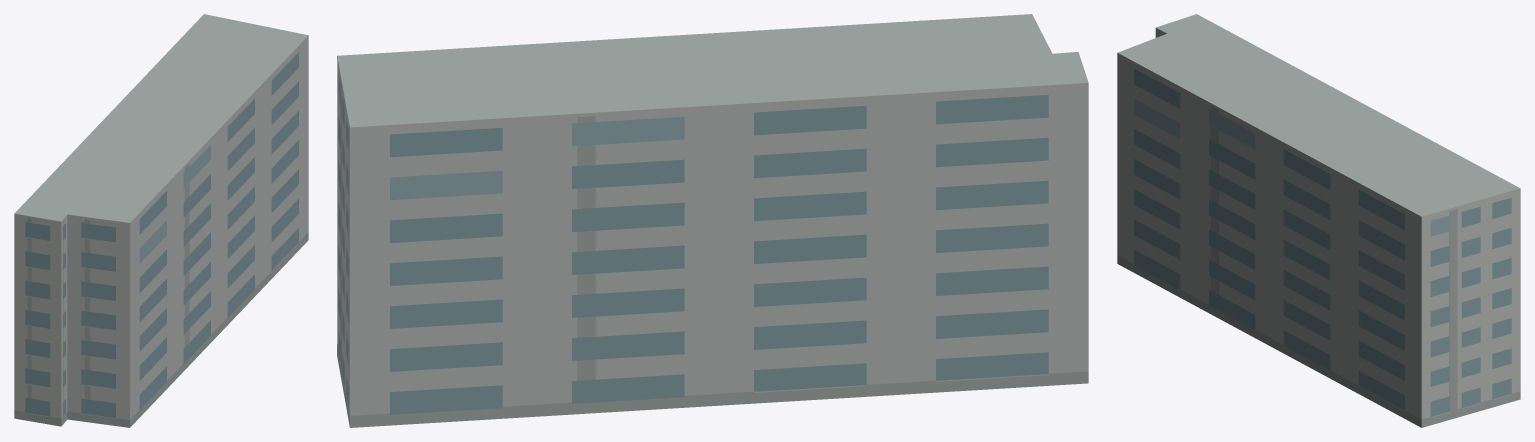
The model's file is survey-upis-32503119.glb.
3 views of the same model, side by side, from view 1: azimuth 30°, elevation 25°; view 2: azimuth 150°, elevation 25°; view 3: azimuth 270°, elevation 25° (orthographic). The views are drawn at different scales.
Visible parts, largest first — view 1: survey-upis-32503119.tmp; view 2: survey-upis-32503119.tmp; view 3: survey-upis-32503119.tmp.
Boxes of the visible parts, x1=… form: survey-upis-32503119.tmp: x1=14, y1=14, x2=308, y2=427; survey-upis-32503119.tmp: x1=337, y1=14, x2=1088, y2=427; survey-upis-32503119.tmp: x1=1117, y1=14, x2=1520, y2=427.
Bounding box in the file's own units: 43.99 × 21.35 × 36.95.
